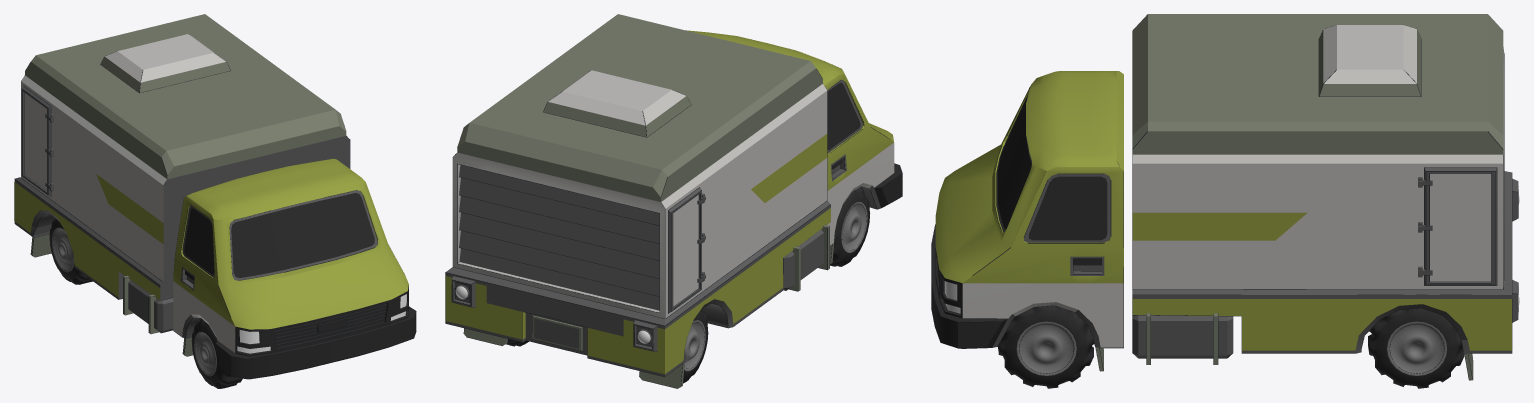
Rendered from vehicle_truck.glb.
3 renders of one model, left to right at view 1: azimuth 30°, elevation 25°; view 2: azimuth 150°, elevation 25°; view 3: azimuth 270°, elevation 25°, orthographic. The views are drawn at different scales.
Parts seen in each view (by area): view 1: Truck, Truck_StructuralInk, FrontWheel_R, BackWheels; view 2: Truck, Truck_StructuralInk, FrontWheel_R, BackWheels; view 3: Truck, FrontWheel_L, BackWheels, Truck_StructuralInk.
Boxes of the visible parts, x1,y1,x2,y2 form: Truck: [14, 14, 416, 379]; Truck_StructuralInk: [14, 34, 416, 379]; FrontWheel_R: [191, 318, 242, 388]; BackWheels: [49, 218, 92, 284]; Truck: [445, 14, 902, 388]; Truck_StructuralInk: [445, 69, 902, 388]; FrontWheel_R: [830, 187, 870, 266]; BackWheels: [506, 310, 708, 383]; Truck: [931, 14, 1519, 380]; FrontWheel_L: [997, 305, 1094, 388]; BackWheels: [1368, 308, 1463, 388]; Truck_StructuralInk: [931, 24, 1518, 379].
Bounding box in the file's own units: 2.71 × 2.89 × 5.26.
4 materials, 1 textured.
